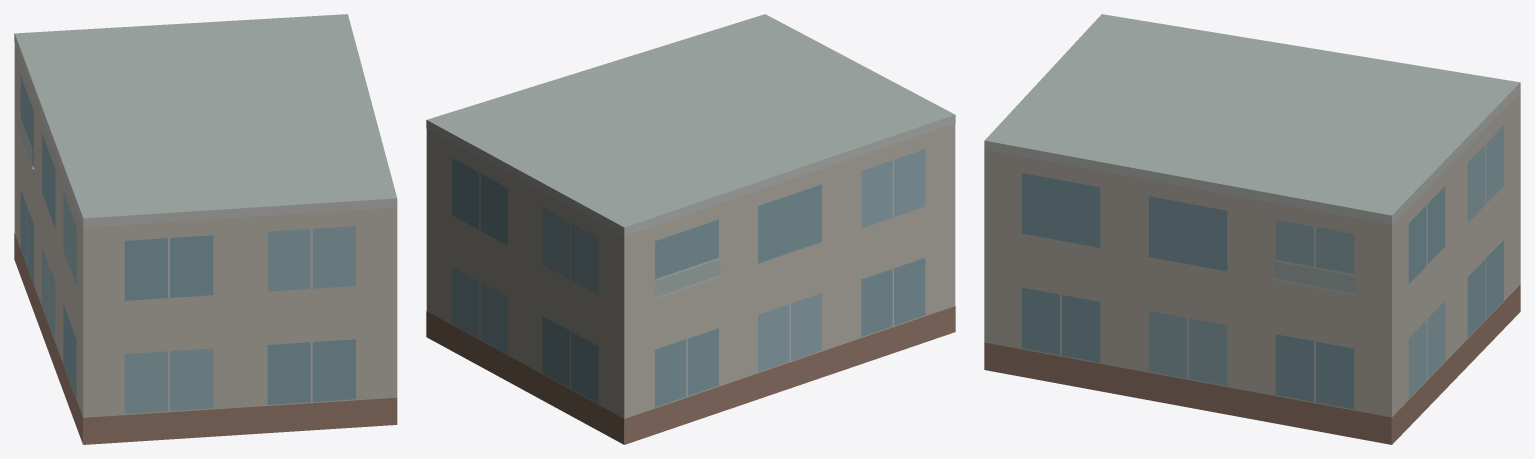
File: survey-upis-32532024.glb
The picture shows the model from 3 angles, left to right: view 1: azimuth 30°, elevation 25°; view 2: azimuth 150°, elevation 25°; view 3: azimuth 270°, elevation 25°; orthographic projection. The views are drawn at different scales.
Parts seen in each view (by area): view 1: survey-upis-32532024.tmp; view 2: survey-upis-32532024.tmp; view 3: survey-upis-32532024.tmp.
Part boxes in pixels (x1,y1,x2,y2): survey-upis-32532024.tmp: [14, 14, 397, 444]; survey-upis-32532024.tmp: [426, 14, 955, 444]; survey-upis-32532024.tmp: [984, 14, 1520, 444].
Bounding box in the file's own units: 11.51 × 6.1 × 12.94.
